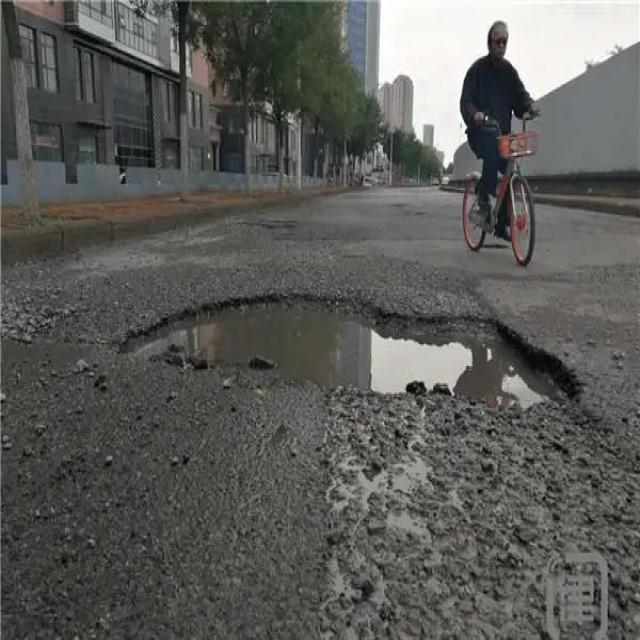Pothole: (108, 293, 581, 420)
